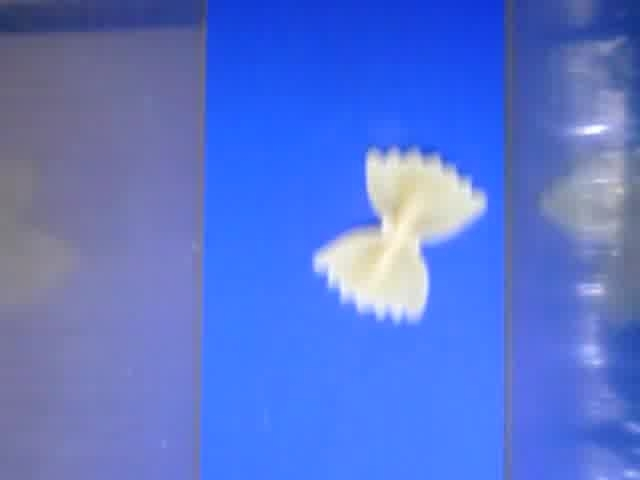farfalle: (312, 147, 486, 324)
